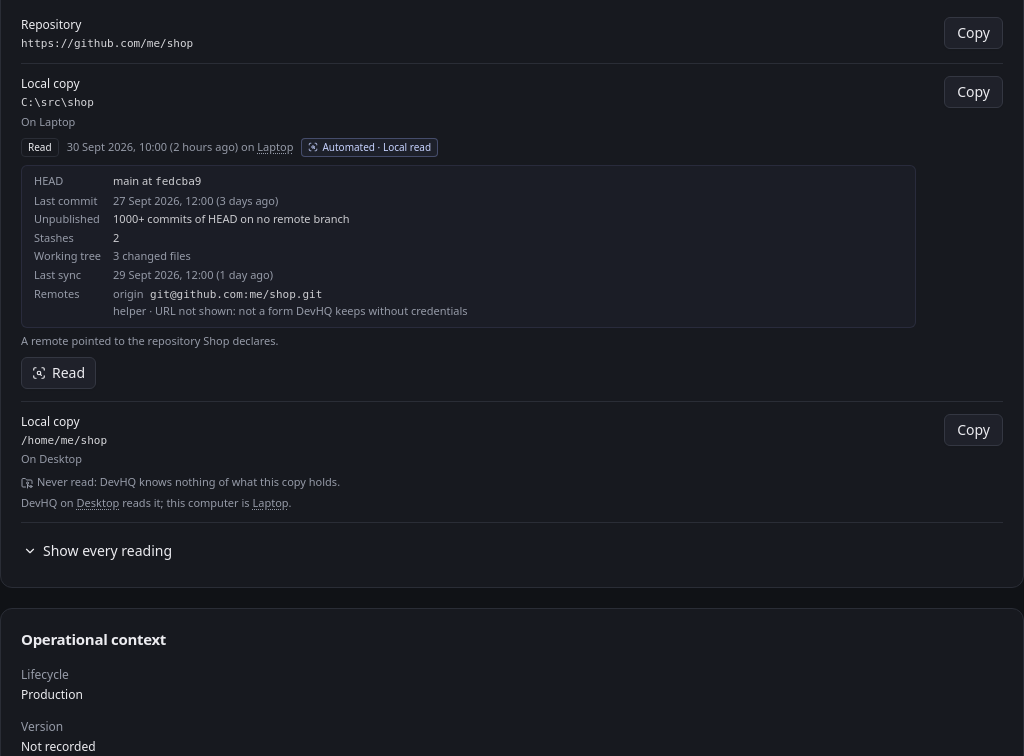
a local copy under its references › reads one copy when asked and says what DevHQ could not read
(page scrolled)
Step 1. Click the button named "Read C:\\src\\shop" → (59, 373), box [21,357,96,389]
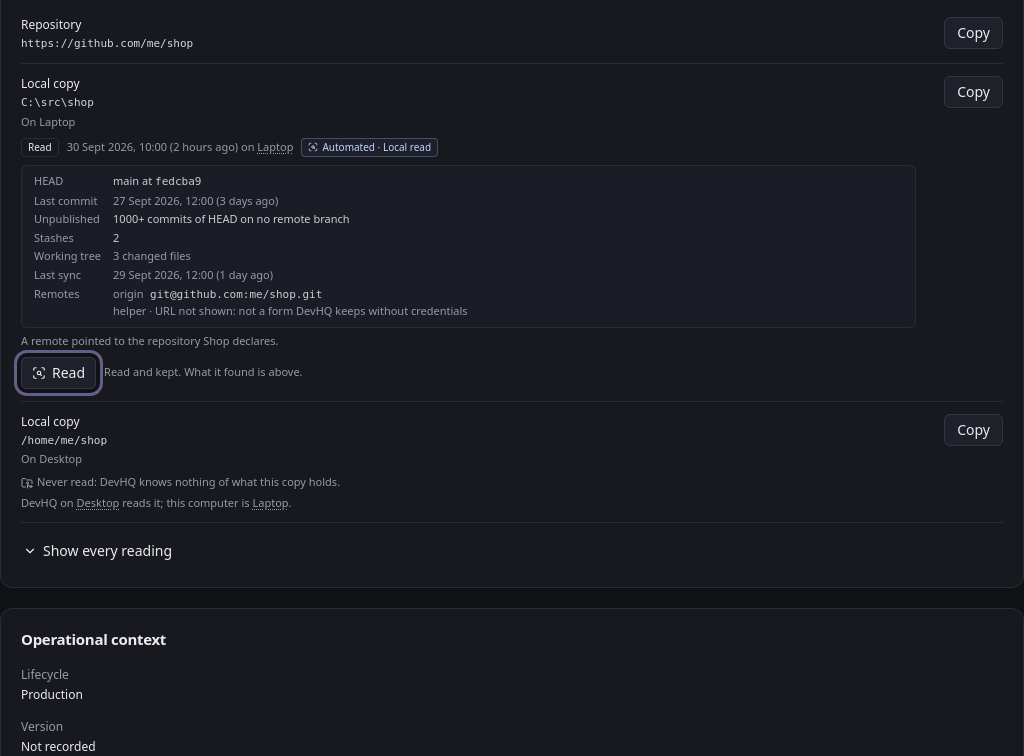
Now the text "Read and kept. What it found is above." is shown, box [104,365,303,380]
Step 2. Click the button named "Read C:\\src\\shop" → (59, 373), box [21,357,96,389]
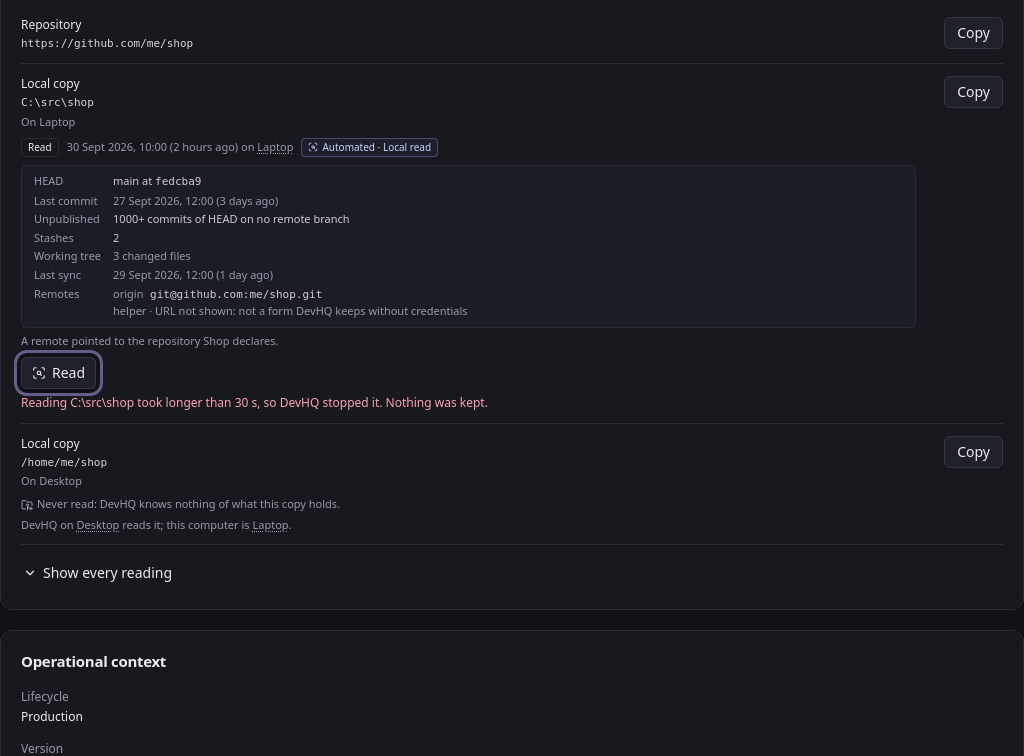
Now the message shows "took longer than 30 s, so DevHQ stopped it. Nothing was kept.", box [21,394,488,411]
